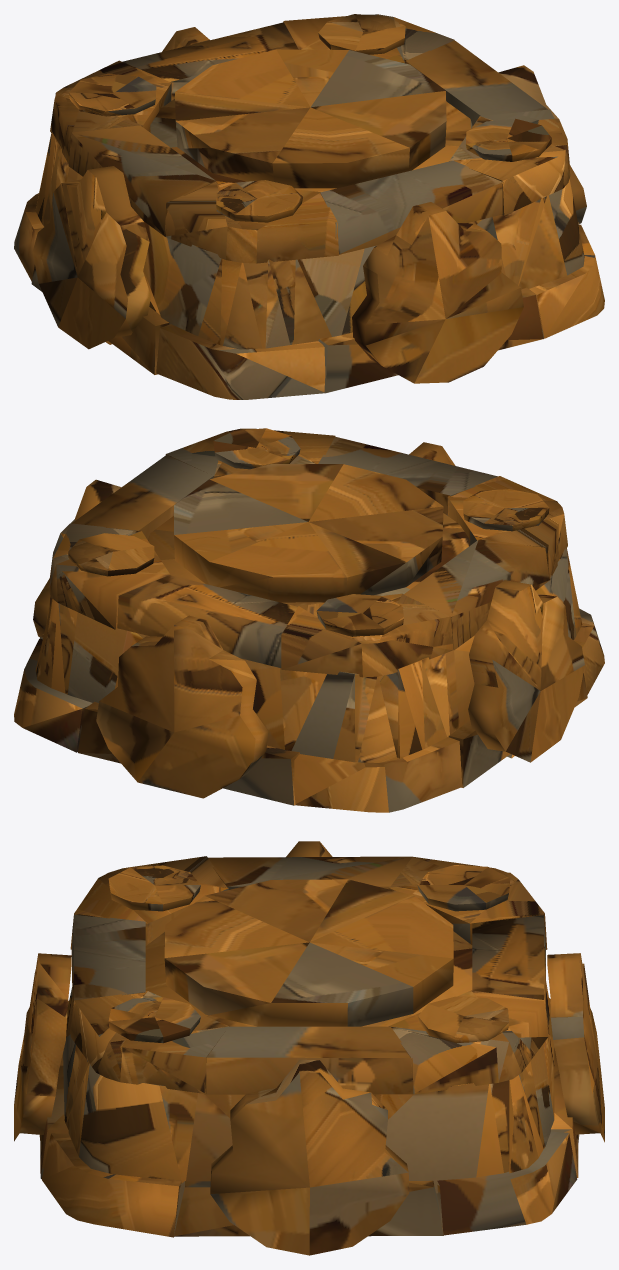
File: FrogStand.fbx
3 views of the same model, one above another, from view 1: azimuth 30°, elevation 25°; view 2: azimuth 150°, elevation 25°; view 3: azimuth 270°, elevation 25° (orthographic). The views are drawn at different scales.
Visible parts, largest first — view 1: FrogStand; view 2: FrogStand; view 3: FrogStand.
Boxes of the visible parts, bbox=[...] form: FrogStand: bbox=[14, 14, 604, 399]; FrogStand: bbox=[14, 428, 604, 812]; FrogStand: bbox=[14, 841, 604, 1255].
Bounding box in the file's own units: 1 × 0.3584 × 1.
